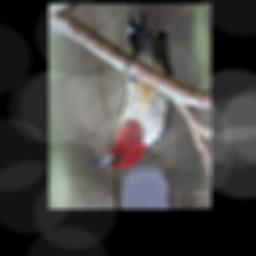Woodpecker: (81, 7, 178, 172)
